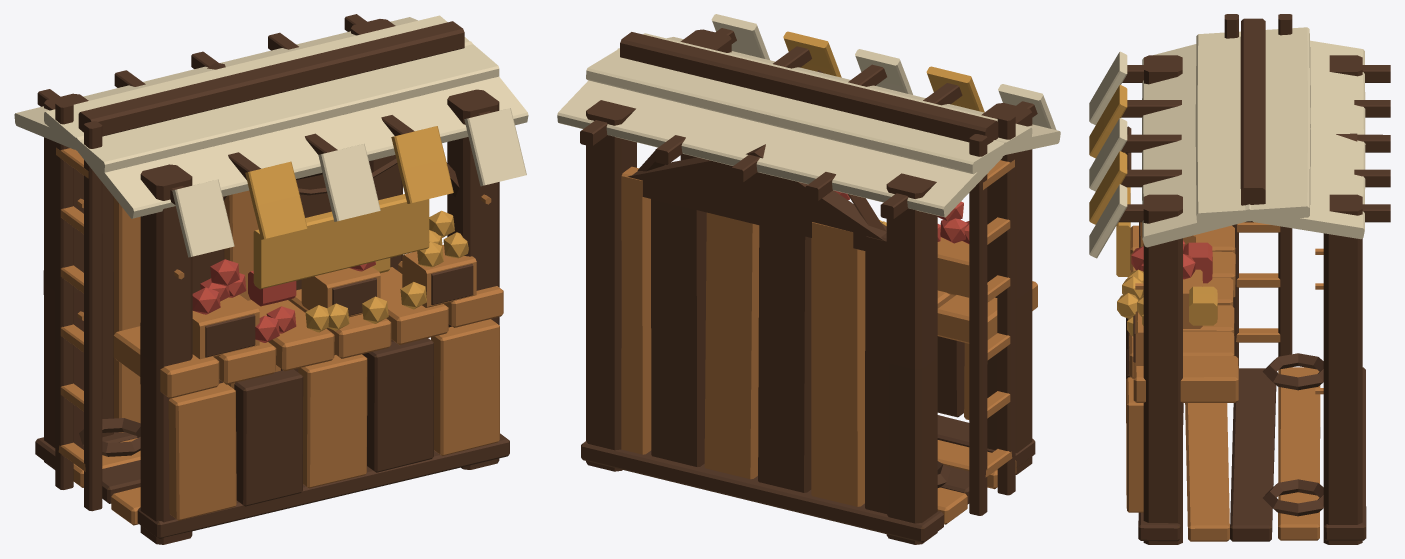
Rendered from building_market_stall_a.glb.
3 views of the same model, side by side, from view 1: azimuth 30°, elevation 25°; view 2: azimuth 150°, elevation 25°; view 3: azimuth 270°, elevation 25° (orthographic). The views are drawn at different scales.
Visible parts, largest first — view 1: produce_stall_back_gable, produce_stall_back_wall_001, produce_stall_canopy_flap_0, produce_stall_apple_00; view 2: produce_stall_back_gable, produce_stall_back_wall_001, produce_stall_canopy_flap_0, produce_stall_apple_00; view 3: produce_stall_back_gable, produce_stall_canopy_flap_0, produce_stall_back_wall_001, produce_stall_apple_00.
Part boxes in pixels (x1,y1,x2,y2): produce_stall_back_gable: [35, 14, 509, 544]; produce_stall_back_wall_001: [56, 147, 503, 525]; produce_stall_canopy_flap_0: [14, 15, 528, 257]; produce_stall_apple_00: [192, 126, 468, 342]; produce_stall_back_gable: [580, 28, 1037, 544]; produce_stall_back_wall_001: [621, 159, 1037, 524]; produce_stall_canopy_flap_0: [557, 14, 1060, 217]; produce_stall_apple_00: [783, 31, 984, 243]; produce_stall_back_gable: [1118, 14, 1390, 544]; produce_stall_canopy_flap_0: [1089, 27, 1365, 258]; produce_stall_back_wall_001: [1126, 222, 1323, 541]; produce_stall_apple_00: [1089, 85, 1217, 336].
Bounding box in the file's own units: 2.38 × 2.25 × 1.69.
